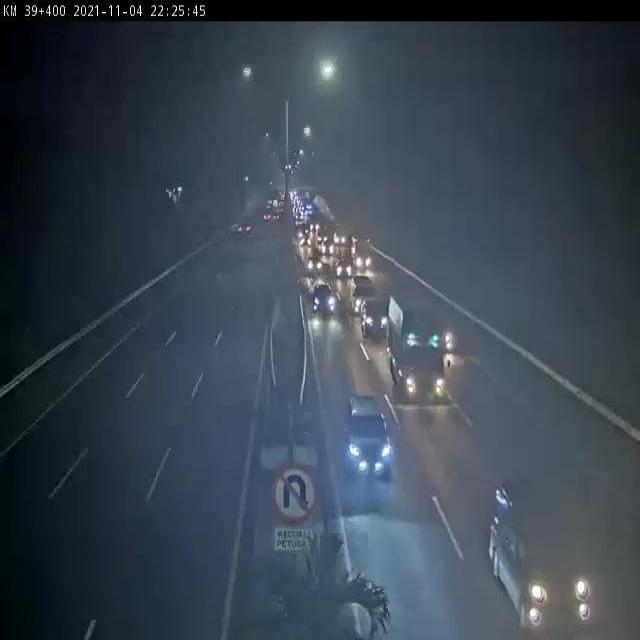car: (479, 478, 625, 640), (339, 388, 398, 497), (359, 300, 389, 344), (307, 283, 340, 320), (347, 272, 376, 311), (443, 307, 462, 360), (331, 255, 358, 281), (234, 214, 259, 242), (305, 252, 326, 281), (330, 226, 350, 250), (315, 225, 334, 244), (297, 232, 312, 249), (261, 209, 272, 223)
truck-m-: (389, 292, 447, 415)
truck-s-: (352, 237, 377, 271)
